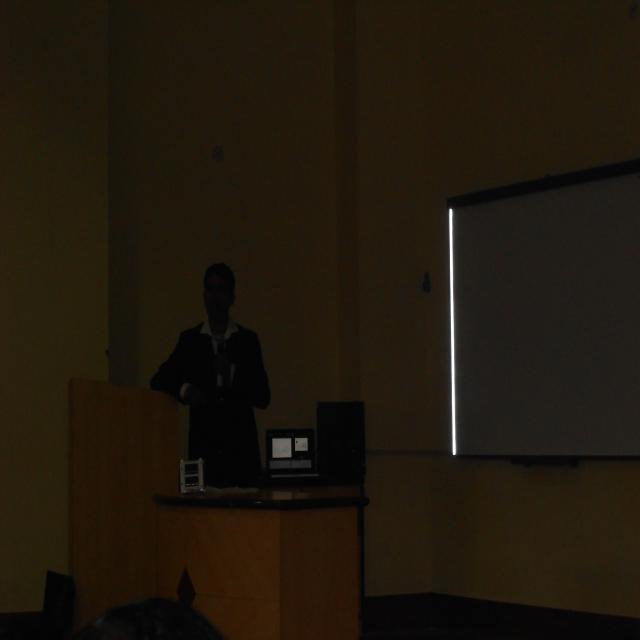People: (166, 216, 274, 510)
Table: (159, 439, 383, 640), (54, 340, 201, 619)
